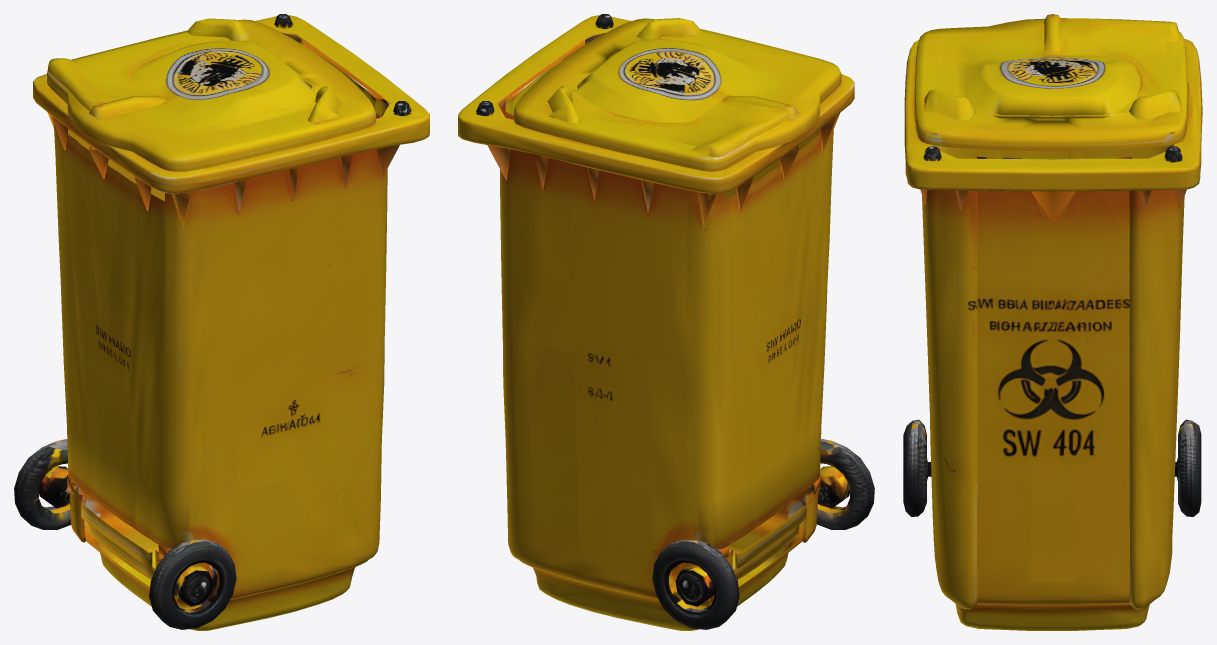
The model's file is trashbin.fbx.
The picture shows the model from 3 angles, left to right: view 1: azimuth 30°, elevation 25°; view 2: azimuth 150°, elevation 25°; view 3: azimuth 270°, elevation 25°; orthographic projection.
Visible parts, largest first — view 1: tripo_node_76fd677c; view 2: tripo_node_76fd677c; view 3: tripo_node_76fd677c.
Part boxes in pixels (left/top/right/bottom): tripo_node_76fd677c: left=14, top=14, right=429, bottom=630; tripo_node_76fd677c: left=458, top=14, right=874, bottom=630; tripo_node_76fd677c: left=903, top=14, right=1202, bottom=630.
Size of the model in its own units: 54.31 by 94.91 by 48.64.
Materials: 1 (1 with a texture image).
